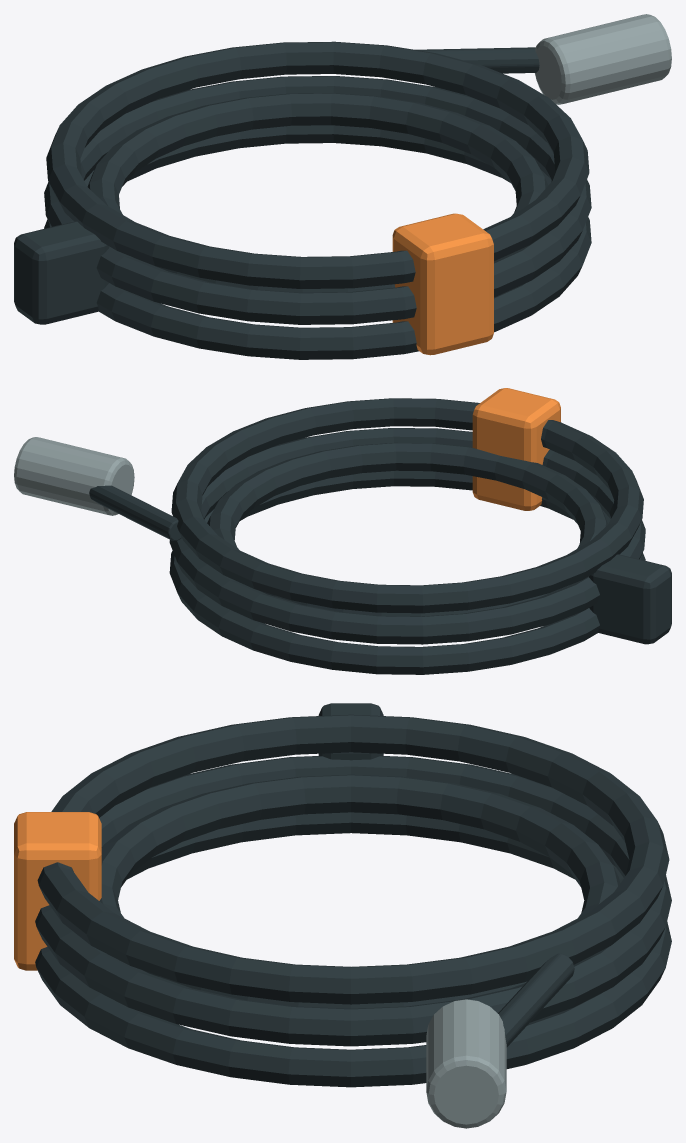
File: P065_cable_coil.glb
3 renders of one model, top to bottom at view 1: azimuth 30°, elevation 25°; view 2: azimuth 150°, elevation 25°; view 3: azimuth 270°, elevation 25°, orthographic. The views are drawn at different scales.
Parts seen in each view (by area): view 1: P065_cable_003, P065_cable_002, P065_cable_001, P065_cable_004, P065_tie_005, P065_plug_007, P065_connector_008, P065_tail_006; view 2: P065_cable_003, P065_cable_002, P065_cable_001, P065_cable_004, P065_tie_005, P065_plug_007, P065_connector_008, P065_tail_006; view 3: P065_cable_003, P065_cable_002, P065_cable_001, P065_cable_004, P065_plug_007, P065_tie_005, P065_tail_006, P065_connector_008.
Boxes of the visible parts, x1,y1,x2,y2 form: P065_cable_003: [46, 41, 589, 288]; P065_cable_002: [44, 76, 591, 324]; P065_cable_001: [44, 125, 591, 359]; P065_cable_004: [87, 93, 548, 292]; P065_tie_005: [392, 213, 493, 355]; P065_plug_007: [535, 14, 671, 104]; P065_connector_008: [14, 221, 109, 324]; P065_tail_006: [415, 47, 539, 73]; P065_cable_003: [171, 398, 643, 613]; P065_cable_002: [169, 428, 645, 644]; P065_cable_001: [169, 470, 645, 674]; P065_cable_004: [207, 442, 607, 616]; P065_tie_005: [472, 388, 560, 510]; P065_plug_007: [14, 437, 134, 515]; P065_connector_008: [589, 554, 671, 644]; P065_tail_006: [89, 485, 181, 540]; P065_cable_003: [37, 714, 669, 1004]; P065_cable_002: [35, 756, 671, 1046]; P065_cable_001: [35, 812, 671, 1087]; P065_cable_004: [99, 774, 620, 1008]; P065_plug_007: [426, 999, 506, 1128]; P065_tie_005: [14, 812, 101, 970]; P065_tail_006: [498, 953, 574, 1047]; P065_connector_008: [318, 703, 383, 760].
Size of the model in its own units: 0.368 by 0.058 by 0.2625.
